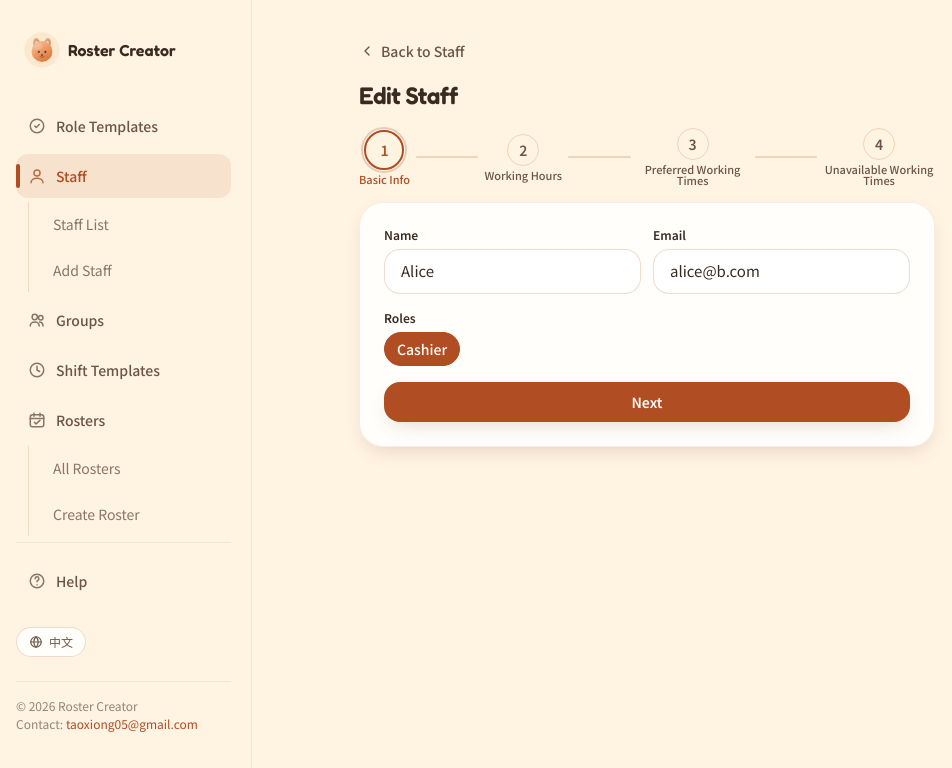
it: StaffEditPage › blocks saving when the last responsibility is deselected
Expected: the field showing "Alice" is shown, [384,249,641,294]
Click the button "Cashier" at x=422, y=348, box [384,332,460,366]
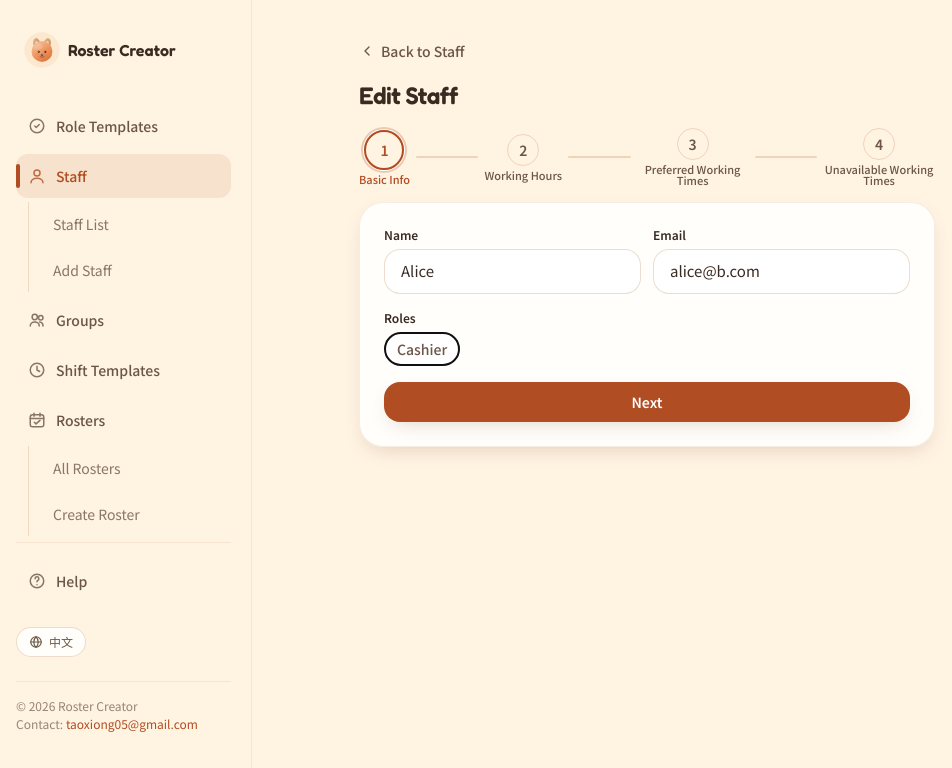
Click the button "Next" at x=647, y=402, box [384,382,910,422]
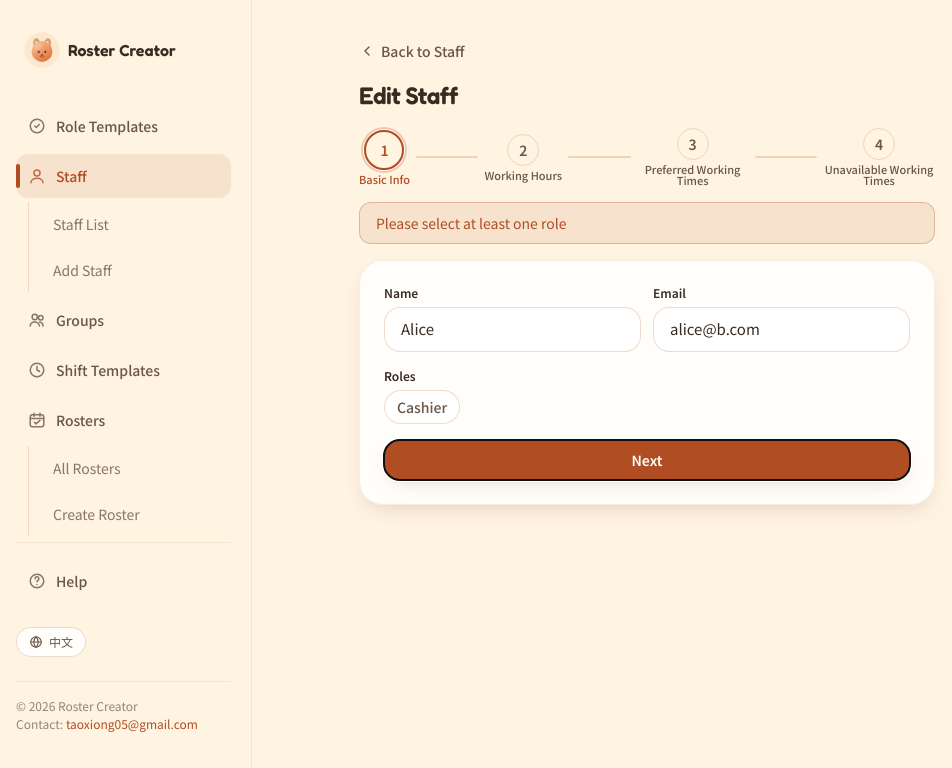
Expected: the message reads "Please select at least one role", [376,213,566,233]
